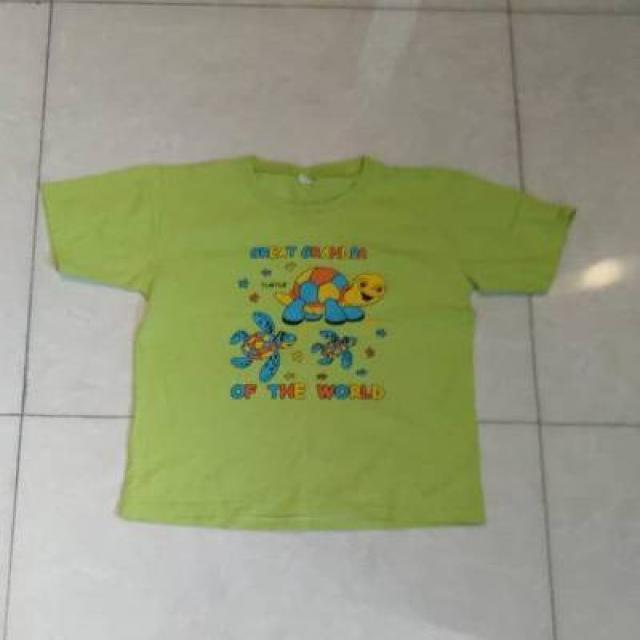Clothes -Biodegradable-: (43, 154, 573, 529)
